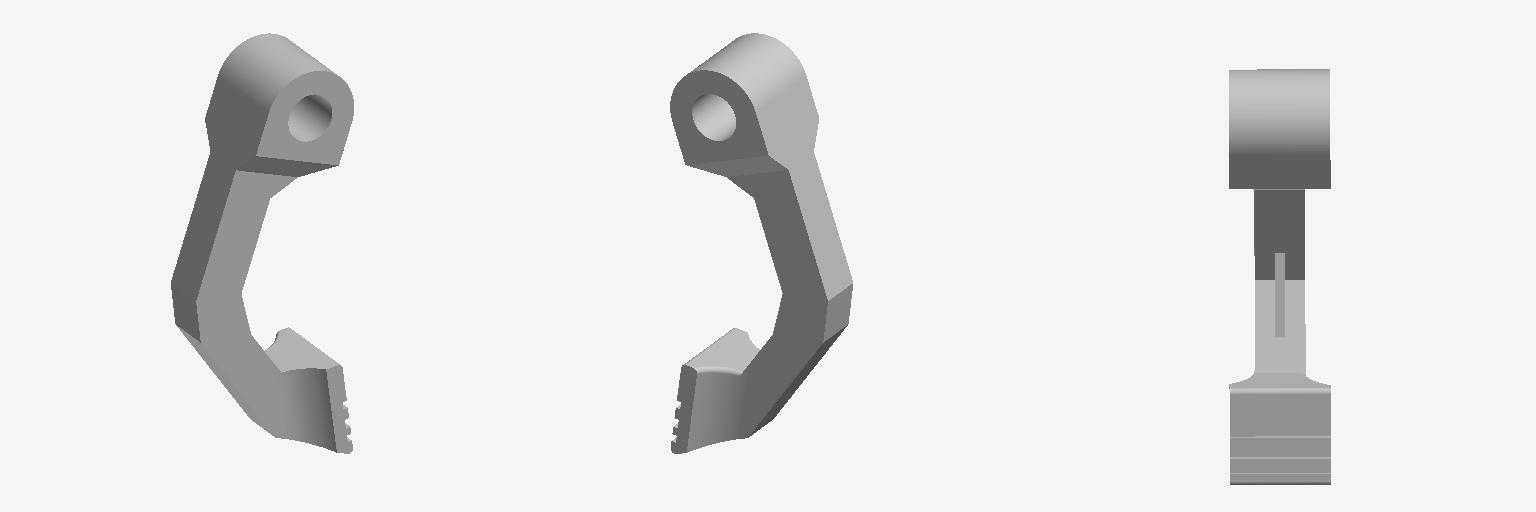
The model's file is joint6r.obj.
3 views of the same model, side by side, from view 1: azimuth 30°, elevation 25°; view 2: azimuth 150°, elevation 25°; view 3: azimuth 270°, elevation 25° (orthographic).
Visible parts, largest first — view 1: joint6r; view 2: joint6r; view 3: joint6r.
Boxes of the visible parts, <box> form: joint6r: <box>171,33,353,453</box>; joint6r: <box>670,33,852,453</box>; joint6r: <box>1229,69,1330,484</box>.
Size of the model in its own units: 3.31 by 8.51 by 2.02.